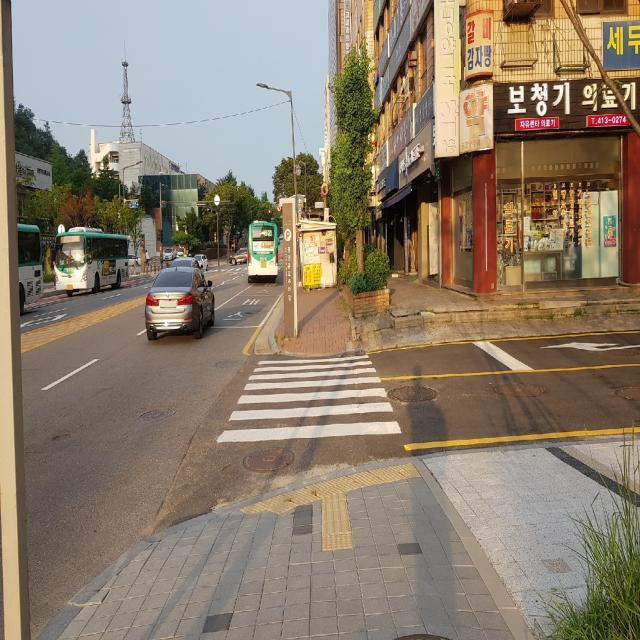횡단보도: (215, 352, 404, 444)
